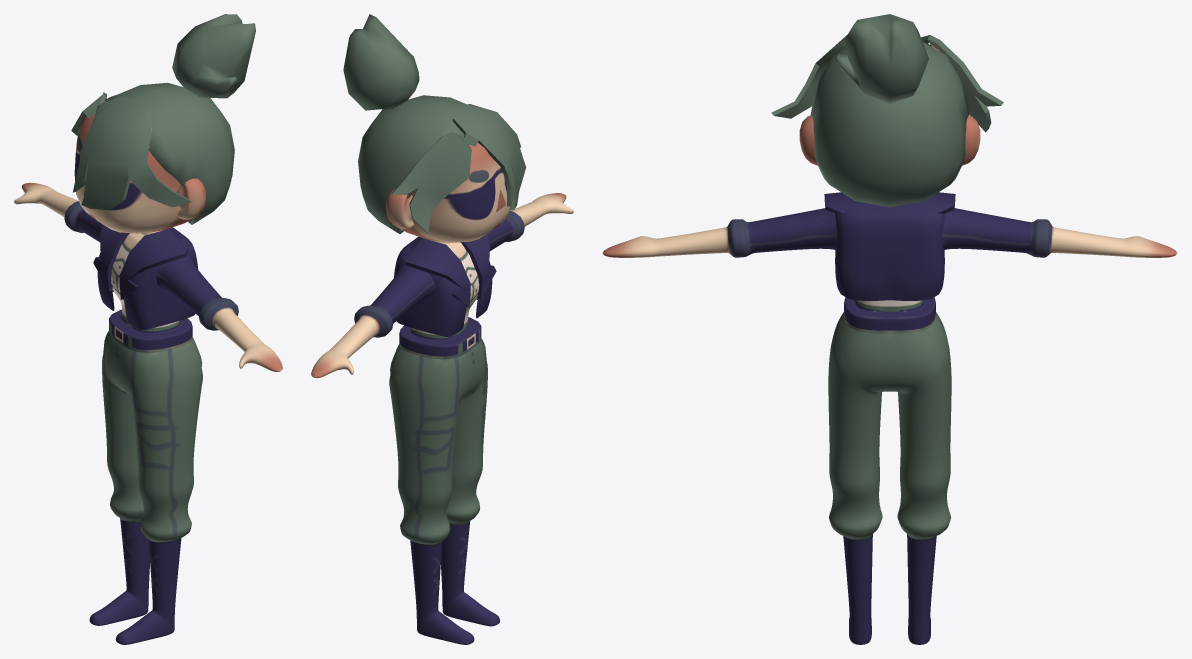
Rendered from MainCharacter.fbx.
3 renders of one model, left to right at view 1: azimuth 30°, elevation 25°; view 2: azimuth 150°, elevation 25°; view 3: azimuth 270°, elevation 25°, orthographic. The views are drawn at different scales.
Visible parts, largest first — view 1: bod, hair, Bangs2, ponytail, jacketFlaps, jacket; view 2: bod, Bangs2, hair, ponytail, jacketFlaps, jacket; view 3: bod, hair, jacket, ponytail, Bangs2, jacketFlaps.
Part boxes in pixels (<box>): bod: <box>14,98,282,644</box>; hair: <box>105,82,234,224</box>; Bangs2: <box>71,92,192,210</box>; ponytail: <box>172,14,255,98</box>; jacketFlaps: <box>93,224,189,299</box>; jacket: <box>97,227,198,329</box>; bod: <box>311,143,573,644</box>; Bangs2: <box>391,104,526,233</box>; hair: <box>358,95,466,233</box>; ponytail: <box>343,14,419,110</box>; jacketFlaps: <box>402,234,496,307</box>; jacket: <box>394,236,492,336</box>; bod: <box>602,45,1177,644</box>; hair: <box>810,41,969,206</box>; jacket: <box>835,207,944,300</box>; ponytail: <box>836,14,928,103</box>; Bangs2: <box>771,35,1003,132</box>; jacketFlaps: <box>824,192,955,214</box>.
Bounding box in the file's own units: 215 × 712 × 558.
